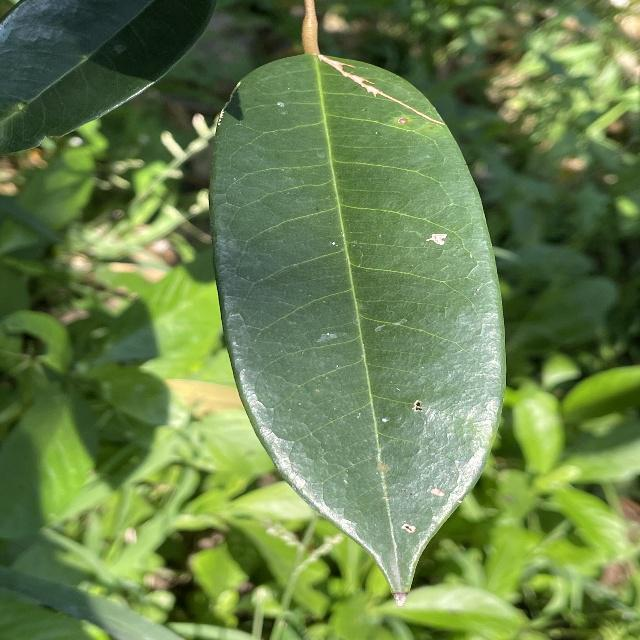No Disease: (195, 41, 514, 612)
